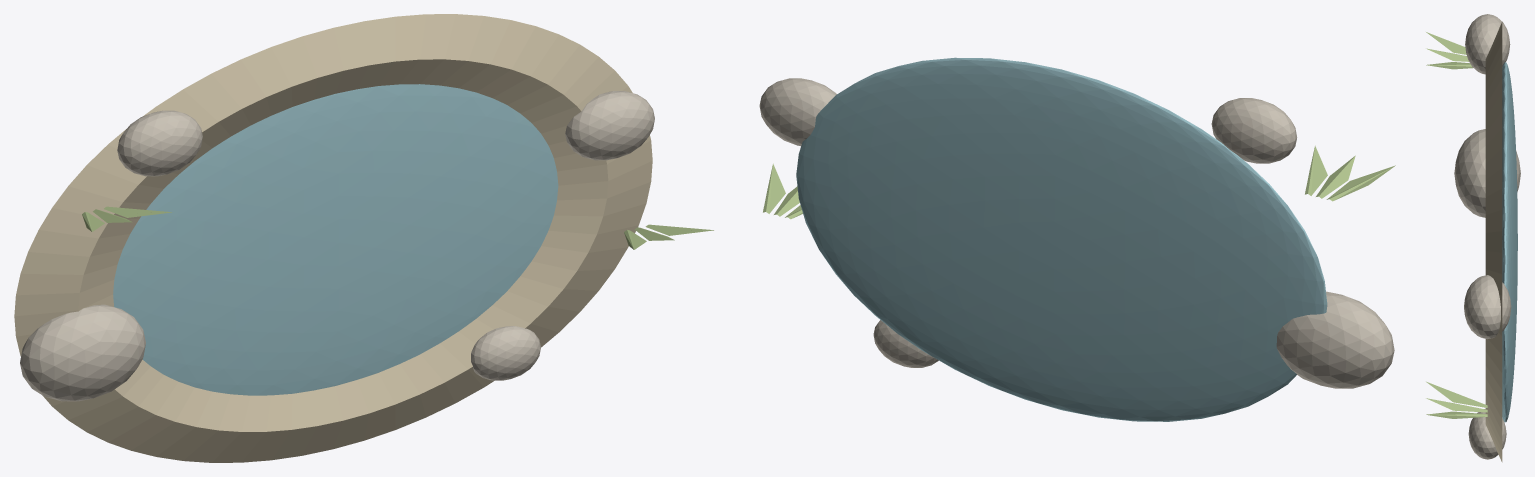
The model's file is small_waterhole.glb.
The picture shows the model from 3 angles, left to right: view 1: azimuth 30°, elevation 25°; view 2: azimuth 150°, elevation 25°; view 3: azimuth 270°, elevation 25°; orthographic projection. The views are drawn at different scales.
Visible parts, largest first — view 1: small_waterhole_000, small_waterhole_001, small_waterhole_003, small_waterhole_002, small_waterhole_004, small_waterhole_005; view 2: small_waterhole_000, small_waterhole_003, small_waterhole_004, small_waterhole_002, small_waterhole_005; view 3: small_waterhole_001, small_waterhole_000, small_waterhole_003, small_waterhole_002, small_waterhole_004, small_waterhole_005, small_waterhole_009, small_waterhole_010, small_waterhole_011, small_waterhole_006, small_waterhole_008, small_waterhole_007.
Boxes of the visible parts, left/top/right/bottom form: small_waterhole_000: left=113, top=84, right=558, bottom=395; small_waterhole_001: left=14, top=14, right=652, bottom=462; small_waterhole_003: left=20, top=304, right=145, bottom=401; small_waterhole_002: left=565, top=91, right=654, bottom=160; small_waterhole_004: left=117, top=110, right=202, bottom=176; small_waterhole_005: left=471, top=326, right=540, bottom=380; small_waterhole_000: left=796, top=57, right=1327, bottom=421; small_waterhole_003: left=1276, top=291, right=1394, bottom=388; small_waterhole_004: left=1211, top=98, right=1297, bottom=163; small_waterhole_002: left=759, top=78, right=836, bottom=146; small_waterhole_005: left=873, top=320, right=938, bottom=367; small_waterhole_001: left=1485, top=22, right=1502, bottom=462; small_waterhole_000: left=1502, top=62, right=1517, bottom=422; small_waterhole_003: left=1454, top=129, right=1520, bottom=217; small_waterhole_002: left=1464, top=275, right=1511, bottom=339; small_waterhole_004: left=1465, top=14, right=1510, bottom=74; small_waterhole_005: left=1468, top=409, right=1506, bottom=459; small_waterhole_009: left=1426, top=381, right=1487, bottom=407; small_waterhole_010: left=1426, top=398, right=1487, bottom=412; small_waterhole_011: left=1426, top=411, right=1487, bottom=418; small_waterhole_006: left=1426, top=32, right=1466, bottom=54; small_waterhole_008: left=1426, top=62, right=1472, bottom=69; small_waterhole_007: left=1426, top=48, right=1468, bottom=61.
Size of the model in its own units: 3.06 by 1.88 by 0.4596.
